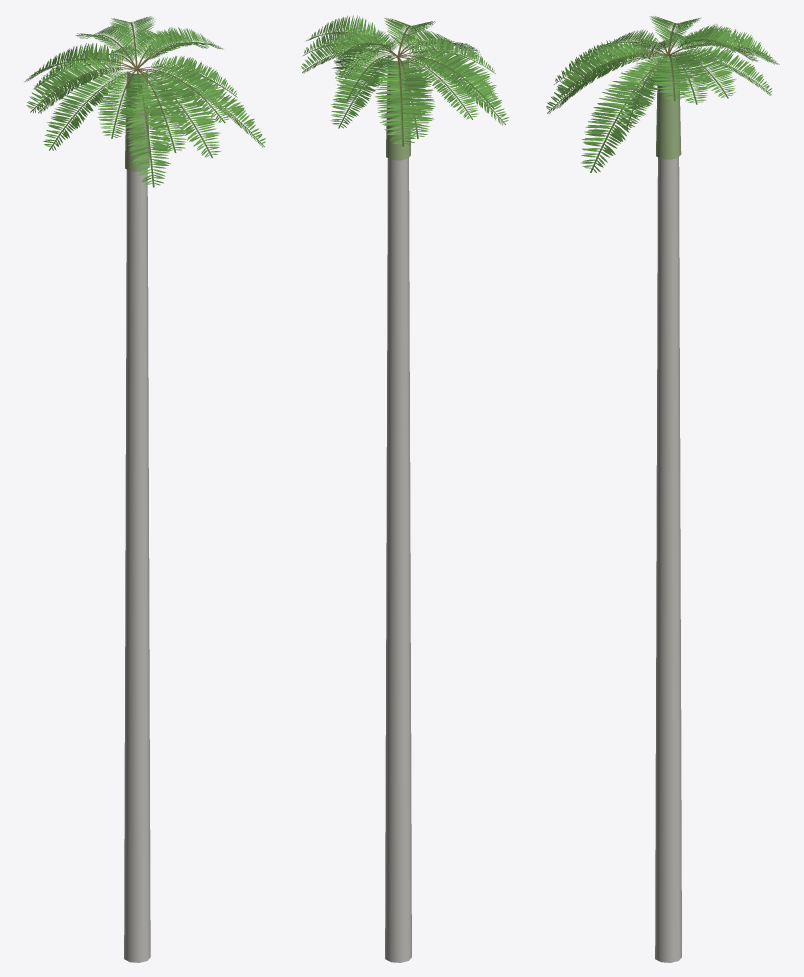
File: roystonea-oleracea.glb
The picture shows the model from 3 angles, left to right: view 1: azimuth 30°, elevation 25°; view 2: azimuth 150°, elevation 25°; view 3: azimuth 270°, elevation 25°; orthographic projection.
Visible parts, largest first — view 1: estipe, fronde, palmito; view 2: estipe, fronde, palmito; view 3: estipe, fronde, palmito.
Part boxes in pixels (x1,y1,x2,y2): estipe: (124,169,150,962); fronde: (24,16,265,187); palmito: (125,70,149,171); estipe: (385,158,411,962); fronde: (301,15,509,146); palmito: (386,57,410,160); estipe: (655,157,681,962); fronde: (546,16,779,172); palmito: (656,59,681,159).
Size of the model in its own units: 5.9 by 25 by 6.
3 materials, 1 textured.
